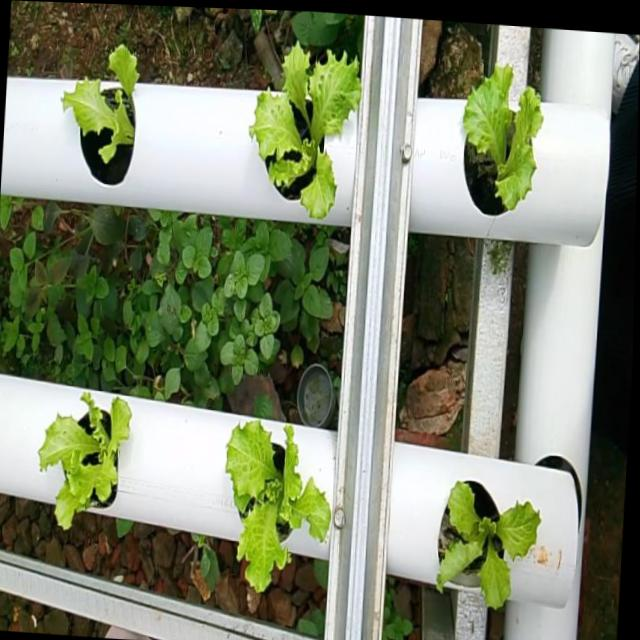Baby: (252, 37, 363, 217), (229, 417, 334, 589), (439, 475, 544, 605), (43, 391, 135, 529), (465, 61, 545, 212), (65, 46, 141, 187)
